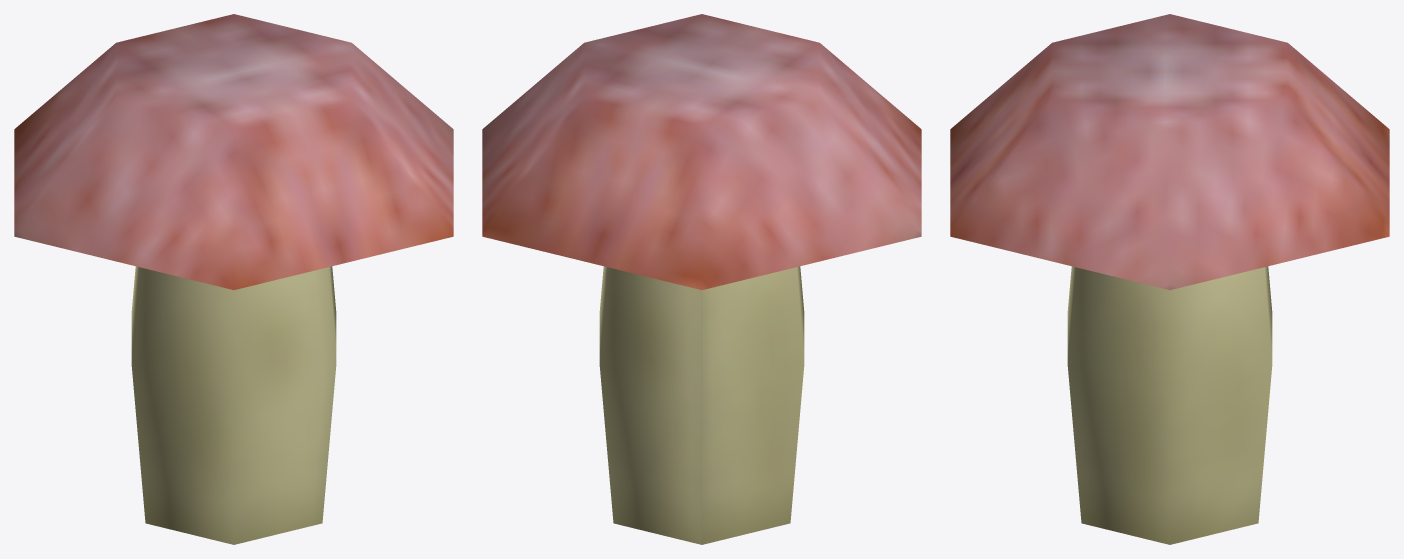
Rendered from Mushroom_2.FBX.
3 views of the same model, side by side, from view 1: azimuth 30°, elevation 25°; view 2: azimuth 150°, elevation 25°; view 3: azimuth 270°, elevation 25° (orthographic).
Parts seen in each view (by area): view 1: Mushroom_2; view 2: Mushroom_2; view 3: Mushroom_2.
Boxes of the visible parts, x1,y1,x2,y2 form: Mushroom_2: [14, 14, 453, 544]; Mushroom_2: [482, 14, 921, 544]; Mushroom_2: [950, 14, 1389, 544].
Bounding box in the file's own units: 27.25 × 25.5 × 23.6.
